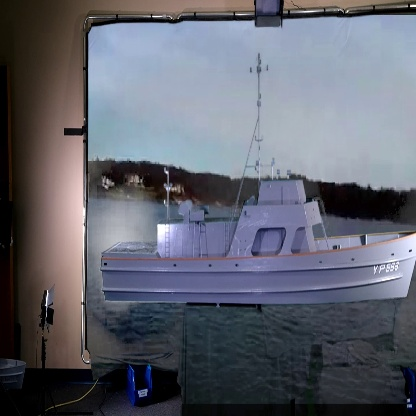YP689: (96, 50, 416, 309)
